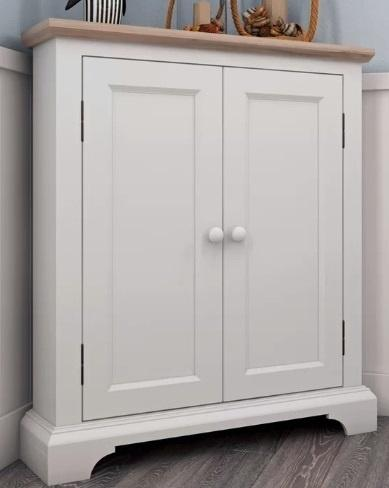cabinet_door: (84, 64, 221, 417), (221, 68, 340, 396)
handle: (207, 223, 224, 251), (230, 223, 247, 250)
